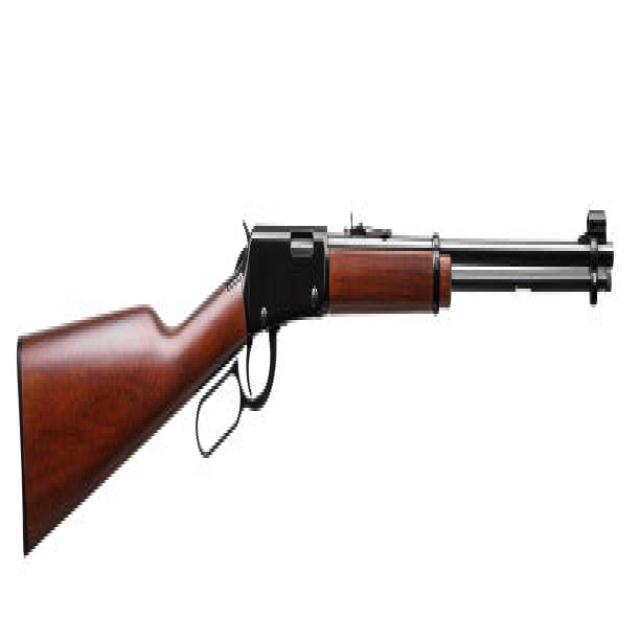rifle: (12, 181, 618, 566)
